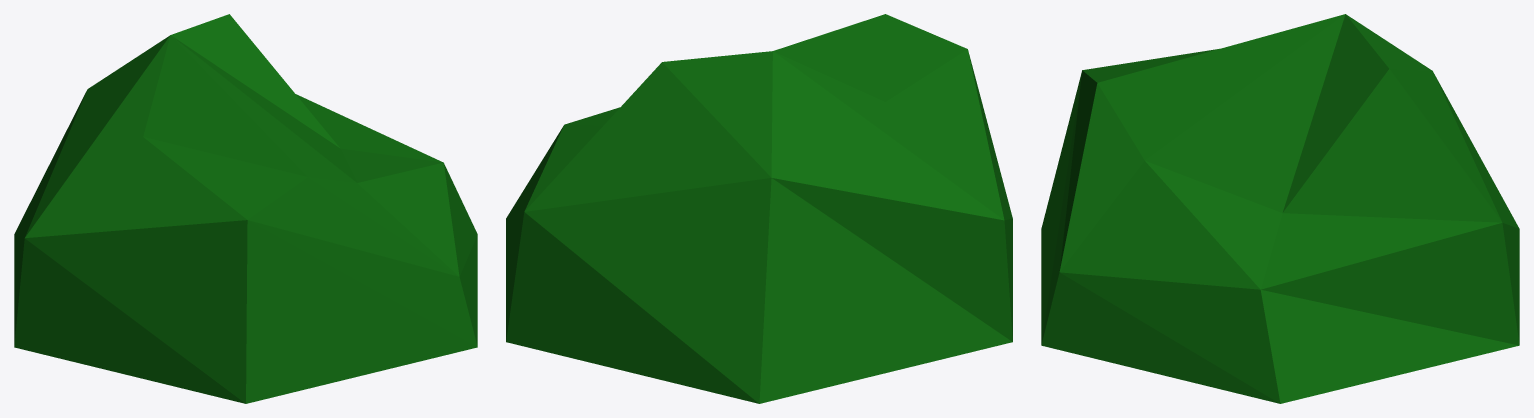
File: Bush_3_Dark.fbx
3 renders of one model, left to right at view 1: azimuth 30°, elevation 25°; view 2: azimuth 150°, elevation 25°; view 3: azimuth 270°, elevation 25°, orthographic. The views are drawn at different scales.
Parts seen in each view (by area): view 1: Bush_3_Dark; view 2: Bush_3_Dark; view 3: Bush_3_Dark.
Part boxes in pixels (x1=…): Bush_3_Dark: x1=14, y1=14, x2=477, y2=403; Bush_3_Dark: x1=506, y1=14, x2=1012, y2=403; Bush_3_Dark: x1=1041, y1=14, x2=1519, y2=403.
Size of the model in its own units: 1.46 by 0.7304 by 1.26.
